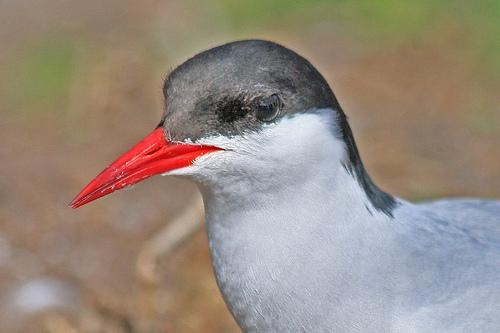bird: (53, 38, 500, 333)
